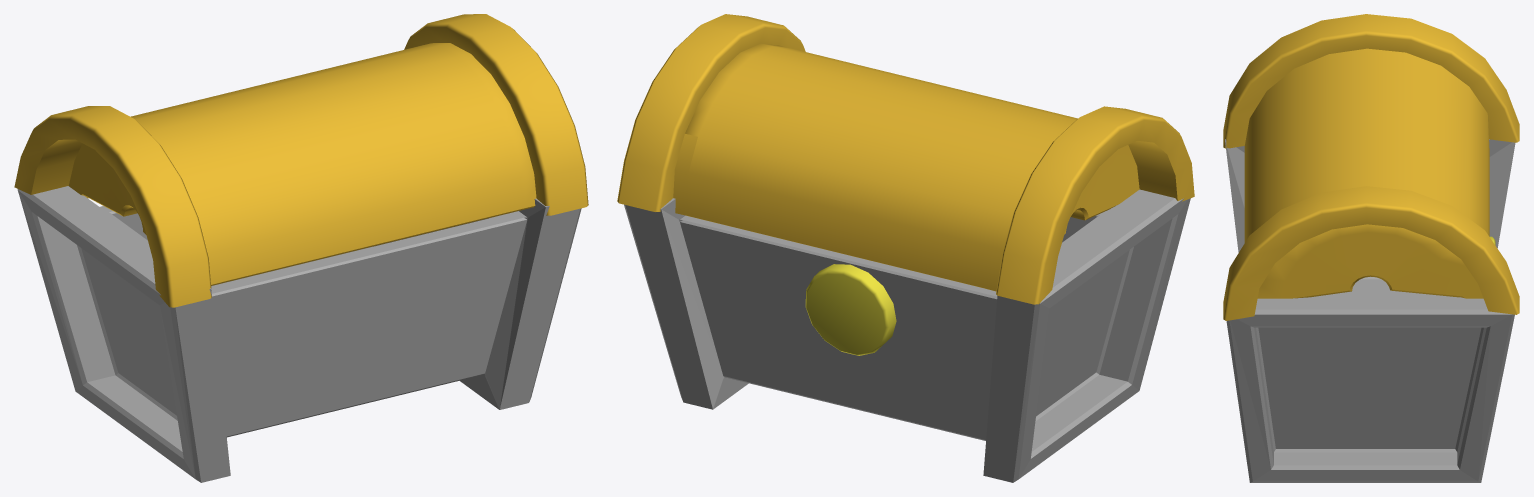
File: Chest2.fbx
3 views of the same model, side by side, from view 1: azimuth 30°, elevation 25°; view 2: azimuth 150°, elevation 25°; view 3: azimuth 270°, elevation 25° (orthographic). The views are drawn at different scales.
Parts seen in each view (by area): view 1: pCube142, polySurface12, polySurface35, polySurface14; view 2: pCube142, polySurface12, polySurface35, polySurface14, pCylinder16; view 3: pCube142, polySurface12, polySurface14, polySurface35.
Part boxes in pixels (x1=…): pCube142: x1=17, y1=186, x2=581, y2=482; polySurface12: x1=69, y1=43, x2=536, y2=285; polySurface35: x1=14, y1=106, x2=211, y2=307; polySurface14: x1=404, y1=14, x2=588, y2=215; pCube142: x1=624, y1=189, x2=1190, y2=482; polySurface12: x1=673, y1=43, x2=1139, y2=291; polySurface35: x1=996, y1=106, x2=1194, y2=304; polySurface14: x1=617, y1=14, x2=805, y2=211; pCylinder16: x1=805, y1=264, x2=896, y2=355; pCube142: x1=1225, y1=139, x2=1515, y2=482; polySurface12: x1=1244, y1=48, x2=1489, y2=298; polySurface14: x1=1223, y1=186, x2=1519, y2=320; polySurface35: x1=1223, y1=14, x2=1519, y2=148.
Bounding box in the file's own units: 96.44 × 70.21 × 62.92.
